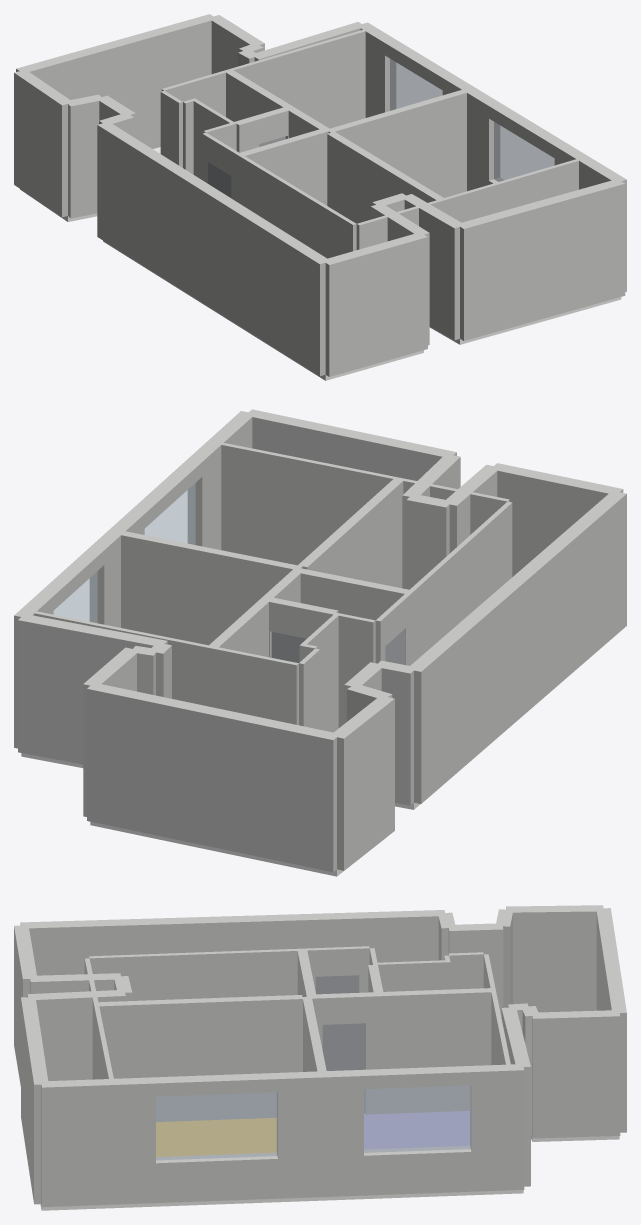
Rendered from D0_plan_drawing_145057_it1.glb.
3 renders of one model, top to bottom at view 1: azimuth 30°, elevation 25°; view 2: azimuth 150°, elevation 25°; view 3: azimuth 270°, elevation 25°, orthographic. The views are drawn at different scales.
Parts seen in each view (by area): view 1: geometry_3, geometry_8, geometry_0, geometry_9; view 2: geometry_3, geometry_8, geometry_0, geometry_9; view 3: geometry_3, geometry_8, geometry_2, geometry_5, geometry_9, geometry_0.
Boxes of the visible parts, box(x1,y1,x2,y2) form: geometry_3: box(14, 14, 626, 376); geometry_8: box(390, 59, 554, 181); geometry_0: box(20, 147, 621, 380); geometry_9: box(208, 136, 285, 197); geometry_3: box(14, 409, 626, 872); geometry_8: box(53, 483, 195, 622); geometry_0: box(21, 753, 420, 876); geometry_9: box(271, 628, 405, 664); geometry_3: box(14, 905, 626, 1207); geometry_8: box(156, 1085, 470, 1160); geometry_2: box(156, 1118, 276, 1156); geometry_5: box(364, 1111, 469, 1149); geometry_9: box(315, 975, 365, 1113); geometry_0: box(40, 1135, 619, 1210).
Size of the model in its own units: 8.83 by 2.85 by 12.54.
